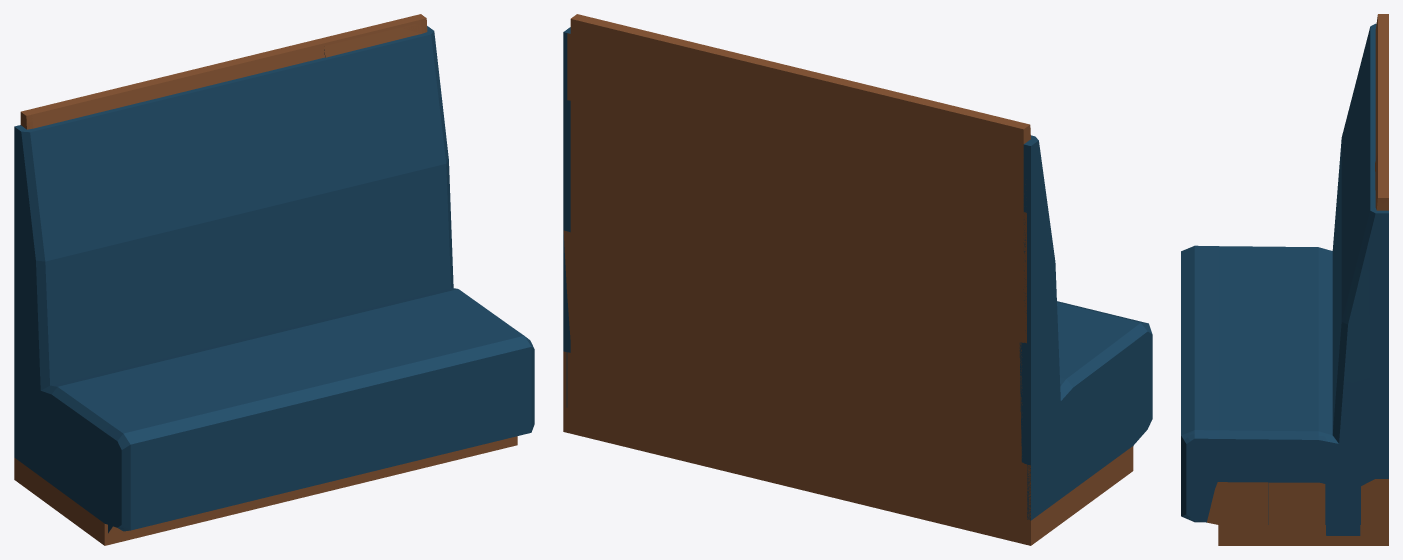
File: shattered_boothseat.fbx
3 views of the same model, side by side, from view 1: azimuth 30°, elevation 25°; view 2: azimuth 150°, elevation 25°; view 3: azimuth 270°, elevation 25° (orthographic). The views are drawn at different scales.
Visible parts, largest first — view 1: Cube.002, Cube.002_cell.061, Cube.002_cell.073, Cube.002_cell.102, Cube.002_cell.040, Cube.002_cell.087, Cube.002_cell.019, Cube.002_cell.052, Cube.002_cell.098, Cube.002_cell.041, Cube.002_cell.005, Cube.002_cell.016 (+4 smaller); view 2: Cube.002, Cube.002_cell.055, Cube.002_cell.076, Cube.002_cell.068, Cube.002_cell.095, Cube.002_cell.011, Cube.002_cell.032, Cube.002_cell.083; view 3: Cube.002, Cube.002_cell.064, Cube.002_cell.015, Cube.002_cell.030, Cube.002_cell.086, Cube.002_cell.080, Cube.002_cell.098, Cube.002_cell.070, Cube.002_cell.075, Cube.002_cell.005, Cube.002_cell.060, Cube.002_cell.051 (+24 smaller).
Boxes of the visible parts, <box> form: Cube.002: <box>14,14,534,545</box>; Cube.002_cell.061: <box>133,59,335,174</box>; Cube.002_cell.073: <box>339,101,448,248</box>; Cube.002_cell.102: <box>148,240,348,327</box>; Cube.002_cell.040: <box>324,24,425,126</box>; Cube.002_cell.087: <box>31,99,140,193</box>; Cube.002_cell.019: <box>197,339,426,413</box>; Cube.002_cell.052: <box>230,366,430,466</box>; Cube.002_cell.098: <box>85,381,216,428</box>; Cube.002_cell.041: <box>49,330,149,385</box>; Cube.002_cell.005: <box>356,288,484,331</box>; Cube.002_cell.016: <box>385,310,479,350</box>; Cube.002: <box>563,14,1152,545</box>; Cube.002_cell.055: <box>687,261,906,445</box>; Cube.002_cell.076: <box>687,130,906,312</box>; Cube.002_cell.068: <box>907,184,1020,340</box>; Cube.002_cell.095: <box>567,27,587,103</box>; Cube.002_cell.011: <box>1019,342,1030,462</box>; Cube.002_cell.032: <box>1020,211,1026,343</box>; Cube.002_cell.083: <box>563,230,574,350</box>; Cube.002: <box>1181,14,1388,545</box>; Cube.002_cell.064: <box>1268,482,1325,535</box>; Cube.002_cell.015: <box>1207,482,1268,535</box>; Cube.002_cell.030: <box>1206,435,1268,481</box>; Cube.002_cell.086: <box>1268,435,1327,482</box>; Cube.002_cell.080: <box>1344,266,1370,382</box>; Cube.002_cell.098: <box>1207,246,1268,294</box>; Cube.002_cell.070: <box>1358,381,1388,478</box>; Cube.002_cell.075: <box>1319,419,1374,485</box>; Cube.002_cell.005: <box>1268,385,1318,435</box>; Cube.002_cell.060: <box>1350,223,1388,377</box>; Cube.002_cell.051: <box>1256,293,1320,384</box>.
Bounding box in the file's own units: 79.7 × 146 × 172.
